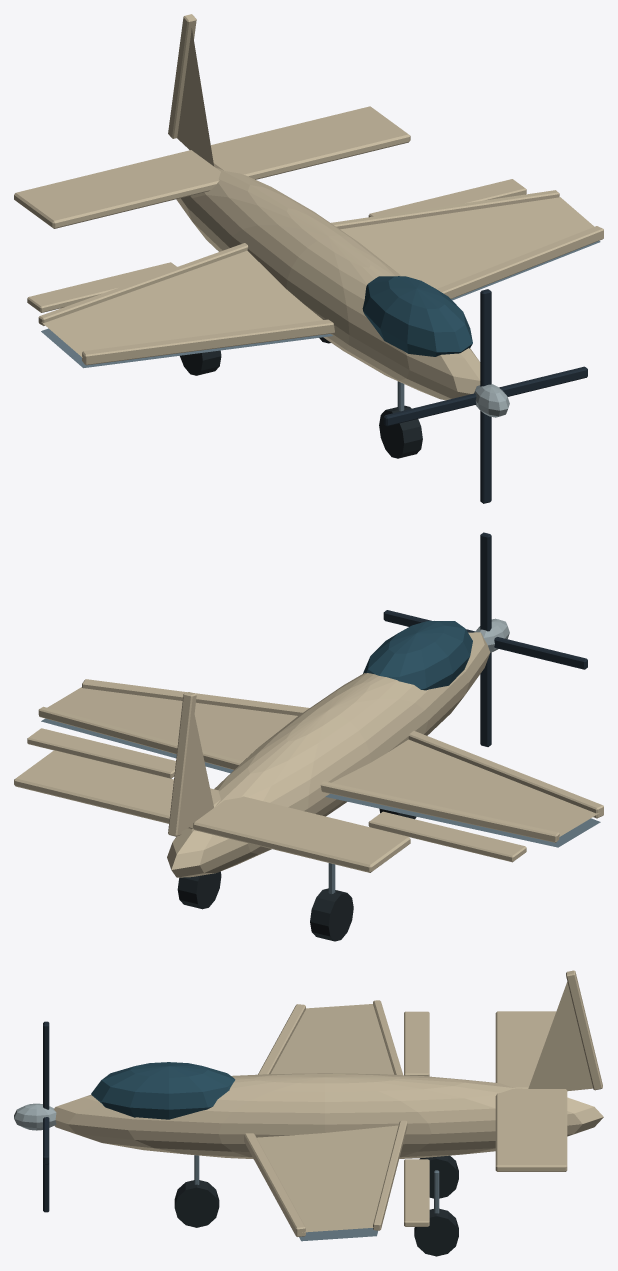
The model's file is aircraft-prop-plane.lod0.glb.
3 views of the same model, one above another, from view 1: azimuth 30°, elevation 25°; view 2: azimuth 150°, elevation 25°; view 3: azimuth 270°, elevation 25° (orthographic). The views are drawn at different scales.
Visible parts, largest first — view 1: aircraft-prop-plane__body, aircraft-prop-plane__propeller_0, aircraft-prop-plane__aileron_-1, aircraft-prop-plane__aileron_1, aircraft-prop-plane__gear_0, aircraft-prop-plane__gear_-0p85; view 2: aircraft-prop-plane__body, aircraft-prop-plane__propeller_0, aircraft-prop-plane__aileron_-1, aircraft-prop-plane__aileron_1, aircraft-prop-plane__gear_-0p85, aircraft-prop-plane__gear_0p85; view 3: aircraft-prop-plane__body, aircraft-prop-plane__propeller_0, aircraft-prop-plane__gear_0, aircraft-prop-plane__gear_0p85, aircraft-prop-plane__aileron_1, aircraft-prop-plane__aileron_-1, aircraft-prop-plane__gear_-0p85.
Boxes of the visible parts, x1,y1,x2,y2 form: aircraft-prop-plane__body: [14, 14, 603, 400]; aircraft-prop-plane__propeller_0: [383, 289, 587, 503]; aircraft-prop-plane__aileron_-1: [27, 262, 176, 312]; aircraft-prop-plane__aileron_1: [368, 179, 526, 217]; aircraft-prop-plane__gear_0: [379, 381, 422, 458]; aircraft-prop-plane__gear_-0p85: [180, 350, 221, 375]; aircraft-prop-plane__body: [14, 621, 603, 877]; aircraft-prop-plane__propeller_0: [383, 532, 587, 746]; aircraft-prop-plane__aileron_-1: [368, 811, 526, 862]; aircraft-prop-plane__aileron_1: [27, 728, 175, 778]; aircraft-prop-plane__gear_-0p85: [310, 863, 353, 941]; aircraft-prop-plane__gear_0p85: [177, 871, 221, 909]; aircraft-prop-plane__body: [53, 970, 603, 1241]; aircraft-prop-plane__propeller_0: [14, 1021, 56, 1212]; aircraft-prop-plane__gear_0: [174, 1155, 219, 1227]; aircraft-prop-plane__gear_0p85: [414, 1170, 458, 1256]; aircraft-prop-plane__aileron_1: [404, 1159, 429, 1226]; aircraft-prop-plane__aileron_-1: [404, 1011, 429, 1076]; aircraft-prop-plane__gear_-0p85: [419, 1155, 458, 1198].
Bounding box in the file's own units: 6.67 × 3.49 × 7.41.
